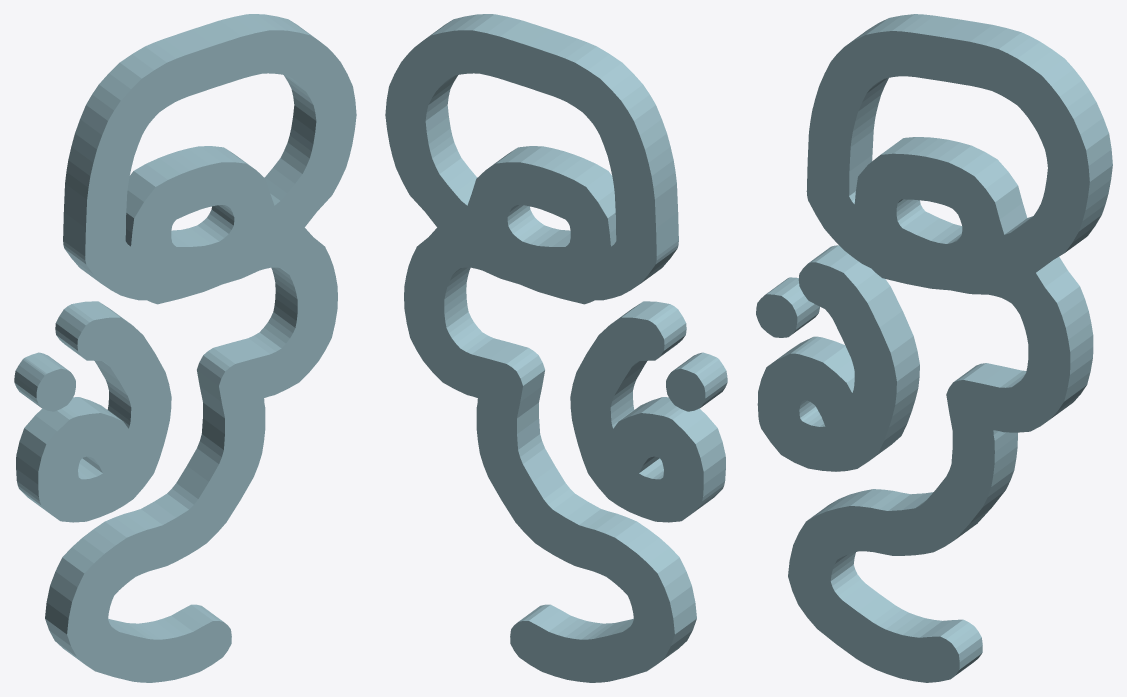
File: Xe Iaso Sigil Untextured.glb
3 views of the same model, side by side, from view 1: azimuth 30°, elevation 25°; view 2: azimuth 150°, elevation 25°; view 3: azimuth 330°, elevation 25° (orthographic). The views are drawn at different scales.
Visible parts, largest first — view 1: Mesh_Mesh_head_geo.001_lambert2SG.001; view 2: Mesh_Mesh_head_geo.001_lambert2SG.001; view 3: Mesh_Mesh_head_geo.001_lambert2SG.001.
Boxes of the visible parts, x1,y1,x2,y2 form: Mesh_Mesh_head_geo.001_lambert2SG.001: (14,14,356,682); Mesh_Mesh_head_geo.001_lambert2SG.001: (385,14,727,682); Mesh_Mesh_head_geo.001_lambert2SG.001: (756,14,1112,682).
Bounding box in the file's own units: 11.39 × 21.32 × 1.36.
